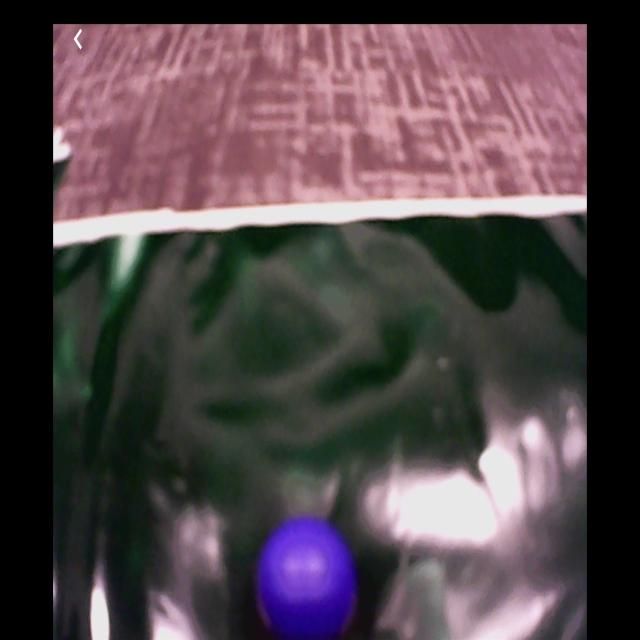ball: (260, 524, 360, 640)
